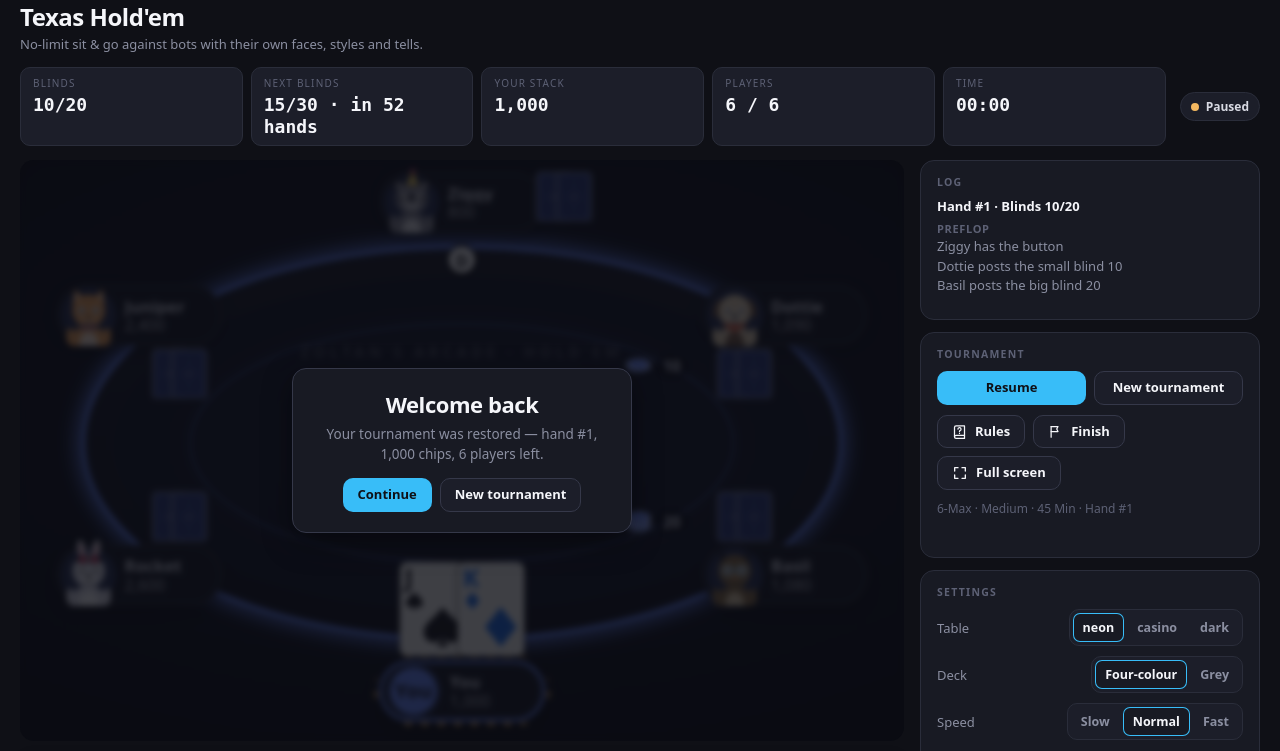
Scenario: Hold’em touch controls › tapping a character opens its card
Step 1. Click the button "Continue" → (387, 495), box [342,478,432,512]
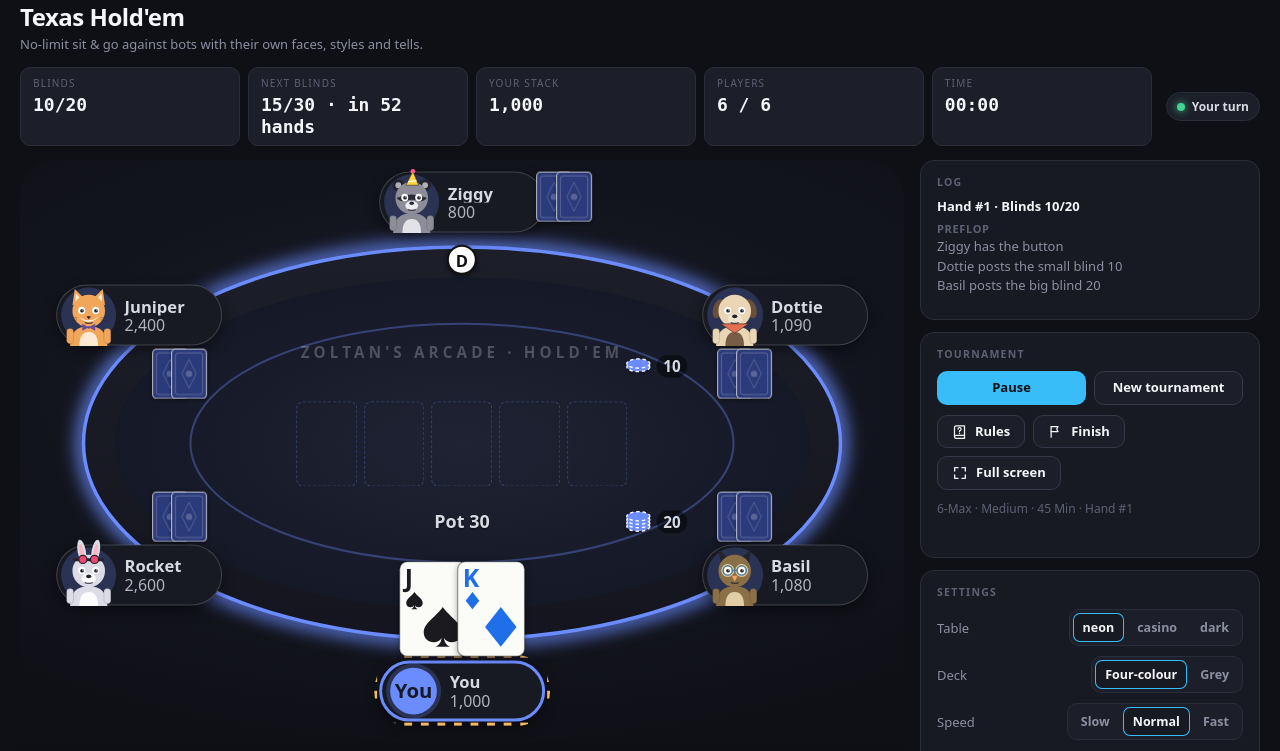
Step 2. Click the button named "About " → (89, 575), box [61,547,116,602]
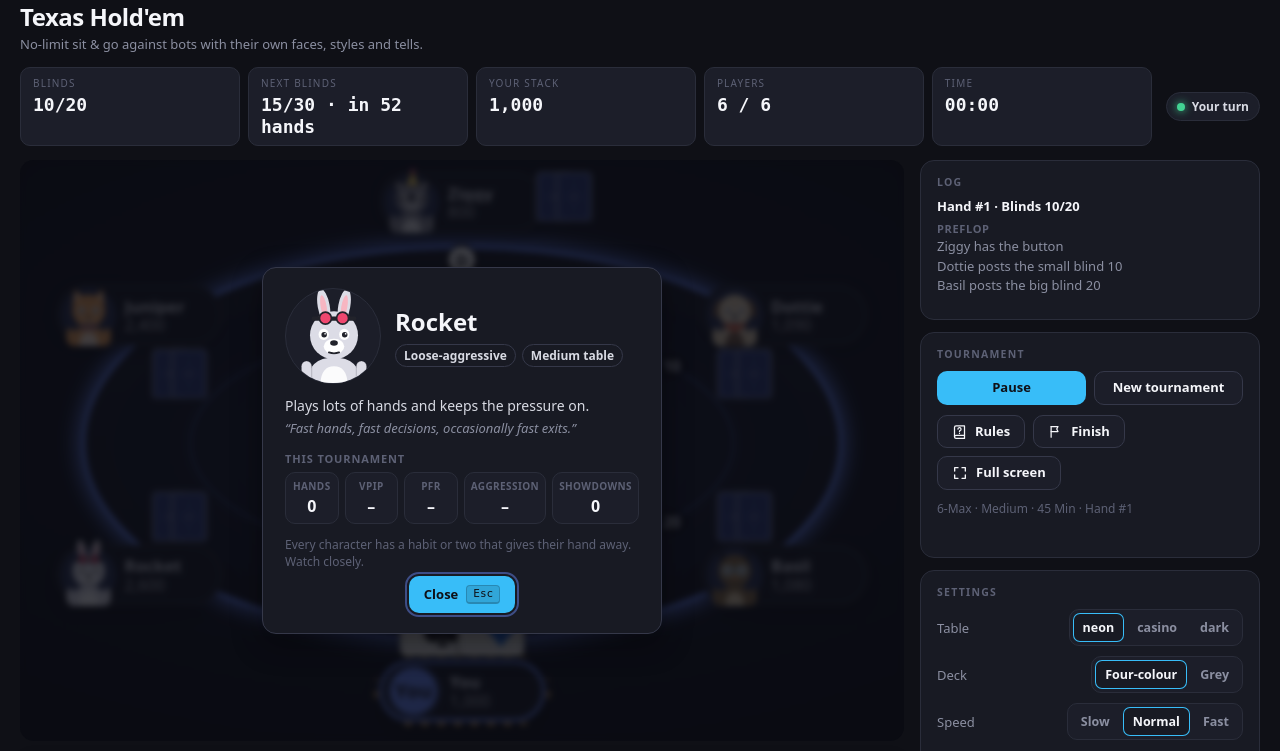
Result: the dialog named "character card" is shown at [20,160,904,740]
